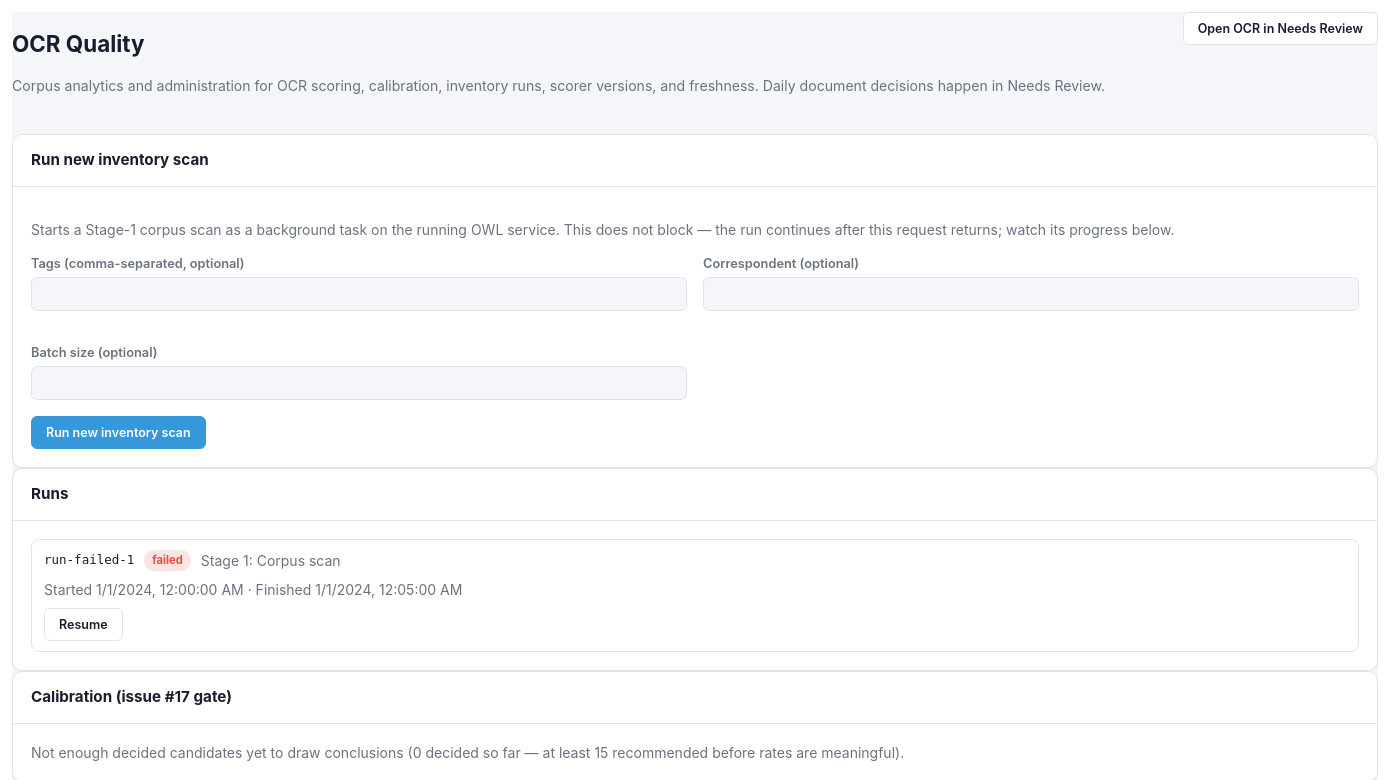
OcrQualityDashboard — Runs panel (manual trigger, issue #30) › offers a resume action for a failed Stage-1 run and resumes it
Expected: the text "run-failed-1" is shown, [44, 551, 134, 570]
Step 1. Click the button "Resume" → (83, 624), box [44, 608, 123, 641]
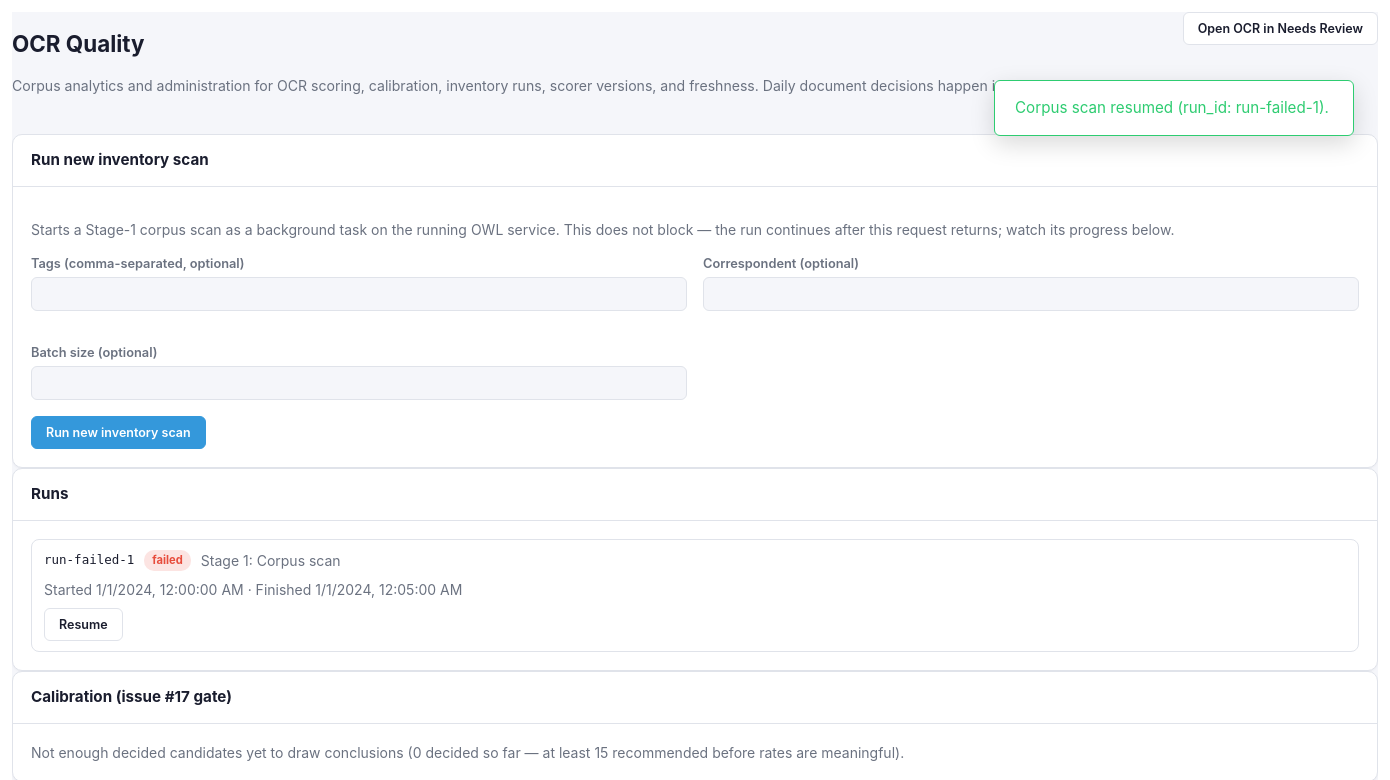
Result: the text "Corpus scan resumed (run_id: run-failed-1)." is shown at [1015, 97, 1333, 119]
